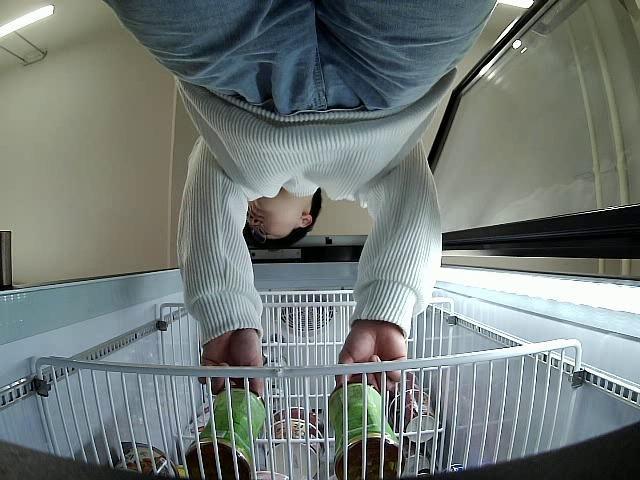19_17cha: (182, 385, 266, 480), (326, 380, 404, 480)
